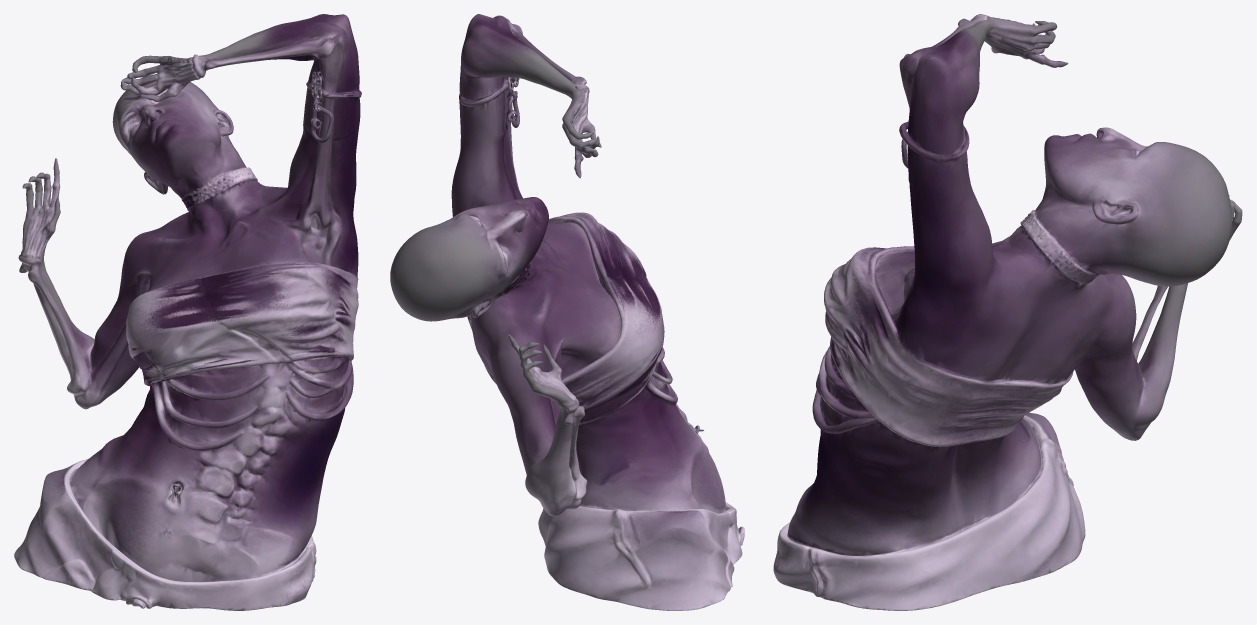
The model's file is body.glb.
3 renders of one model, left to right at view 1: azimuth 30°, elevation 25°; view 2: azimuth 150°, elevation 25°; view 3: azimuth 270°, elevation 25°, orthographic. The views are drawn at different scales.
Visible parts, largest first — view 1: tripo_node_9efb9ffe-ce4f-4946-8401-65577a9bcb58; view 2: tripo_node_9efb9ffe-ce4f-4946-8401-65577a9bcb58; view 3: tripo_node_9efb9ffe-ce4f-4946-8401-65577a9bcb58.
Boxes of the visible parts, x1,y1,x2,y2 form: tripo_node_9efb9ffe-ce4f-4946-8401-65577a9bcb58: (14,14,361,610); tripo_node_9efb9ffe-ce4f-4946-8401-65577a9bcb58: (390,14,744,610); tripo_node_9efb9ffe-ce4f-4946-8401-65577a9bcb58: (773,14,1242,610).
Size of the model in its own units: 0.609 by 0.9802 by 0.7096.
1 material, 1 textured.
